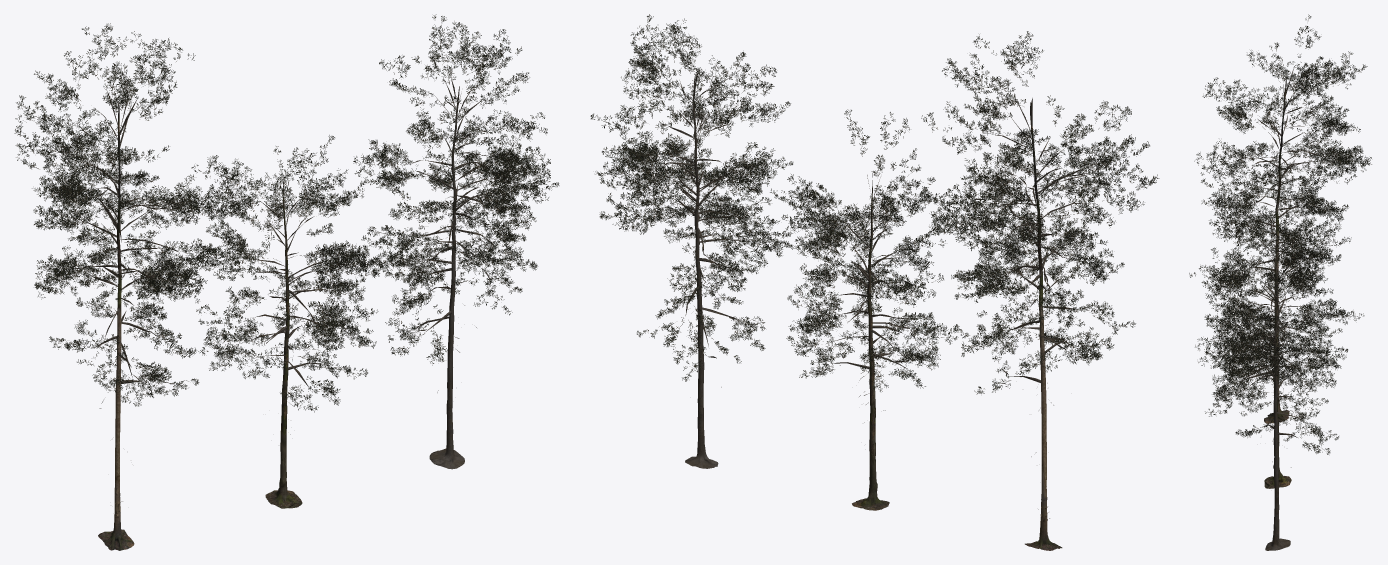
File: pine_tree_01.glb
3 renders of one model, left to right at view 1: azimuth 30°, elevation 25°; view 2: azimuth 150°, elevation 25°; view 3: azimuth 270°, elevation 25°, orthographic. The views are drawn at different scales.
Parts seen in each view (by area): view 1: pine_tree_01_a_LOD0, pine_tree_01_c_LOD0, pine_tree_01_b_LOD0; view 2: pine_tree_01_a_LOD0, pine_tree_01_c_LOD0, pine_tree_01_b_LOD0; view 3: pine_tree_01_a_LOD0, pine_tree_01_c_LOD0, pine_tree_01_b_LOD0.
Part boxes in pixels (x1=…): pine_tree_01_a_LOD0: x1=14, y1=23, x2=239, y2=550; pine_tree_01_c_LOD0: x1=353, y1=14, x2=559, y2=469; pine_tree_01_b_LOD0: x1=184, y1=135, x2=387, y2=508; pine_tree_01_a_LOD0: x1=921, y1=31, x2=1159, y2=550; pine_tree_01_c_LOD0: x1=590, y1=14, x2=796, y2=468; pine_tree_01_b_LOD0: x1=770, y1=109, x2=959, y2=510; pine_tree_01_a_LOD0: x1=1194, y1=14, x2=1371, y2=423; pine_tree_01_c_LOD0: x1=1195, y1=205, x2=1364, y2=550; pine_tree_01_b_LOD0: x1=1189, y1=195, x2=1351, y2=488.
Size of the model in its own units: 21.79 by 20.32 by 8.51.
Materials: 6 (6 with a texture image).
